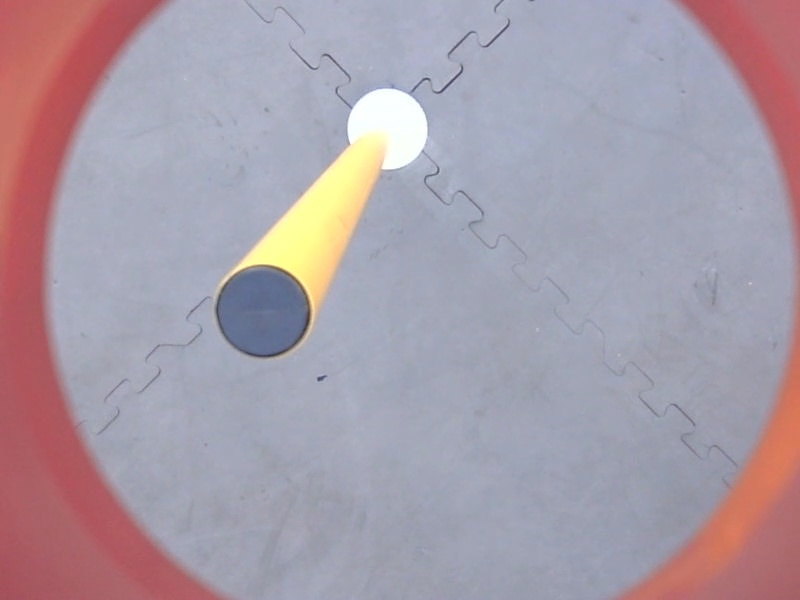tip: (209, 258, 316, 362)
